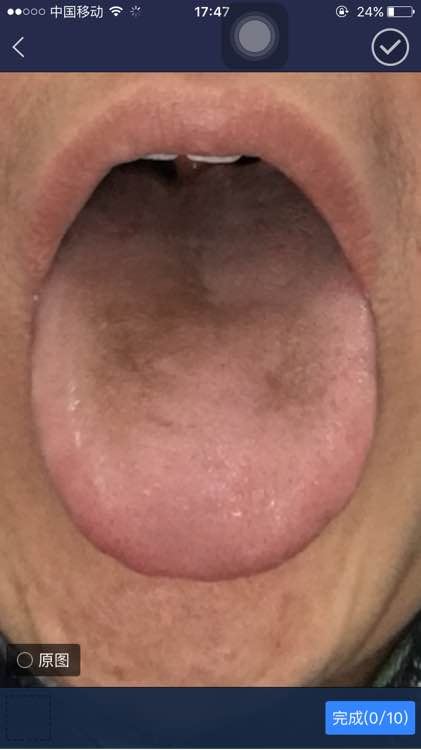heitaishe: (33, 165, 377, 582)
pangdashe: (33, 165, 377, 582)
